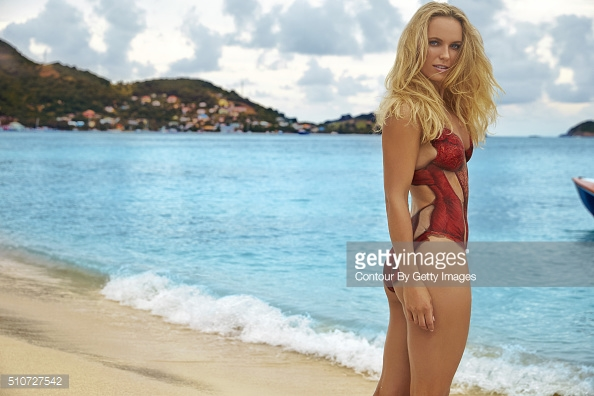em pe: (358, 0, 498, 396)
